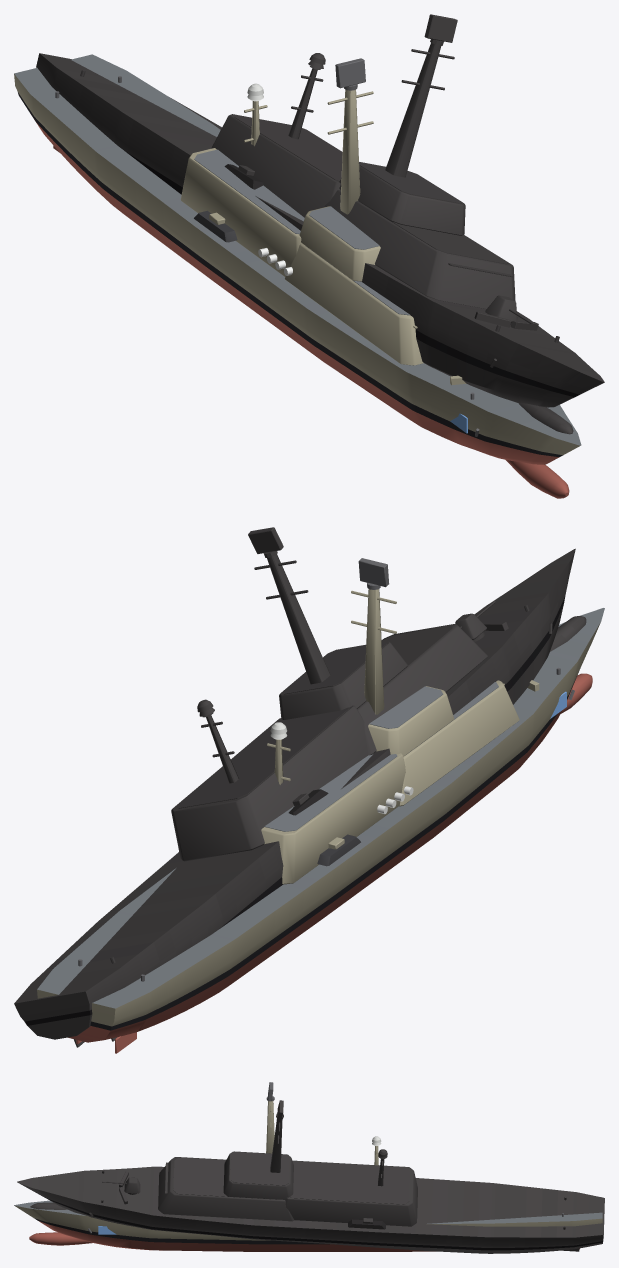
The model's file is missileBoat__reshef.glb.
The picture shows the model from 3 angles, top to bottom: view 1: azimuth 30°, elevation 25°; view 2: azimuth 150°, elevation 25°; view 3: azimuth 270°, elevation 25°; orthographic projection. The views are drawn at different scales.
Parts seen in each view (by area): view 1: Hull_Mesh, Wreck, Radar_Mesh; view 2: Wreck, Hull_Mesh, Radar_Mesh; view 3: Wreck, Hull_Mesh.
Part boxes in pixels (box(x1,y1,x2,y2)): Hull_Mesh: box(14, 54, 581, 498); Wreck: box(36, 14, 604, 434); Radar_Mesh: box(335, 58, 365, 90); Wreck: box(14, 527, 586, 1047); Hull_Mesh: box(37, 589, 604, 1053); Radar_Mesh: box(358, 558, 389, 589); Wreck: box(17, 1100, 604, 1253); Hull_Mesh: box(14, 1101, 602, 1251).
Size of what is drawn, in the model's own units: 16 by 26.71 by 83.71.
